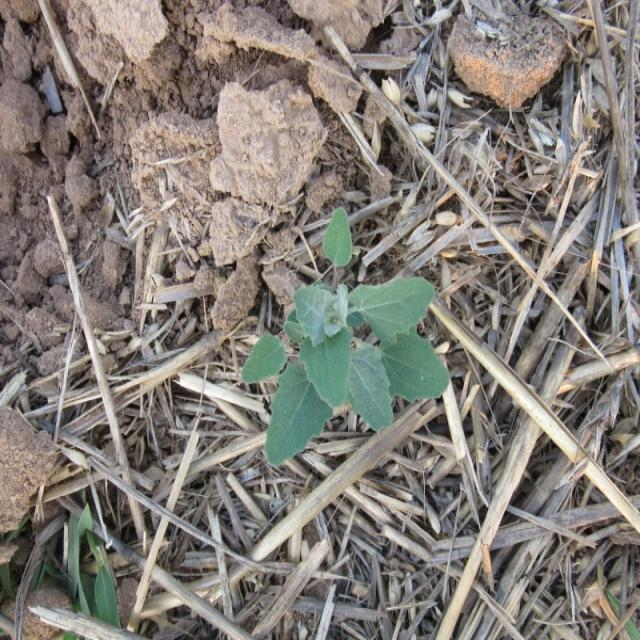ca: (244, 207, 448, 469)
